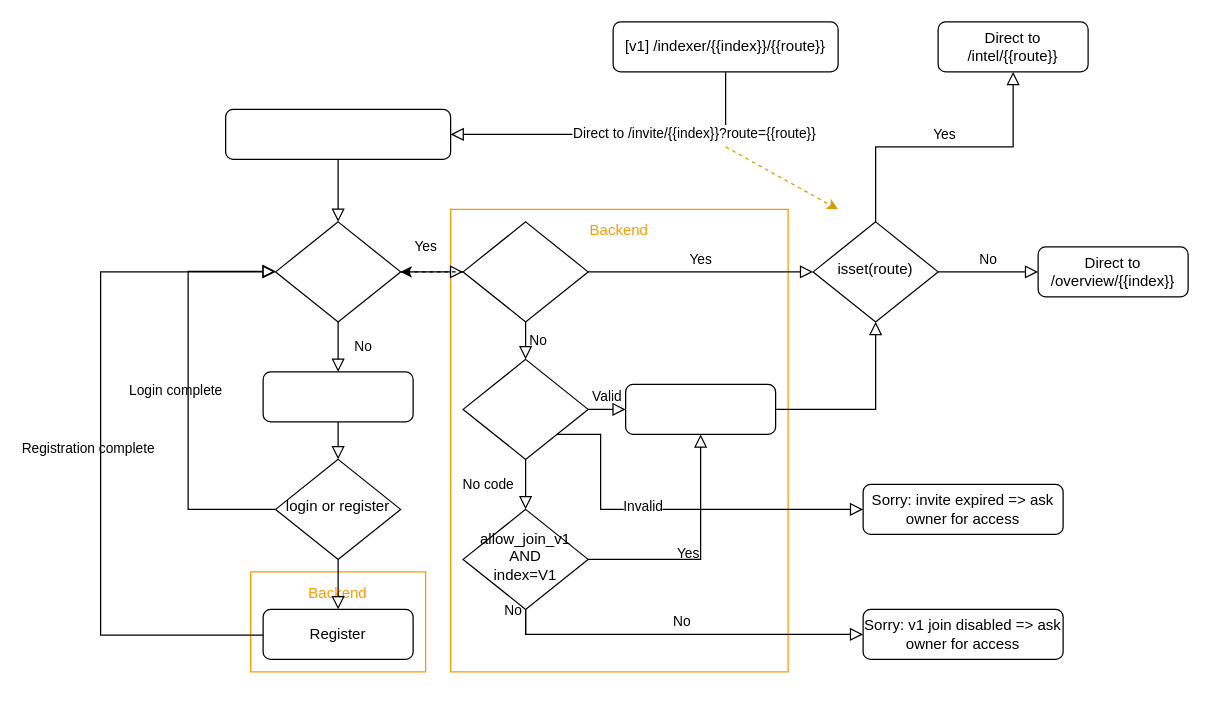
This 1210x704 diagram has some shape labels left out. The shapes that lost their labels are listed below. From the top down, each one's box as (x1, y1, x2, y2) in pixels, then its label:
(224, 108, 451, 159): /invite/{{index+invite_code}}
(274, 221, 401, 322): User logged in?
(462, 221, 588, 322): Already has access to index
(262, 371, 413, 422): Show Login and Register form
(462, 358, 588, 459): invite_code
(624, 383, 776, 434): Add write role on index
